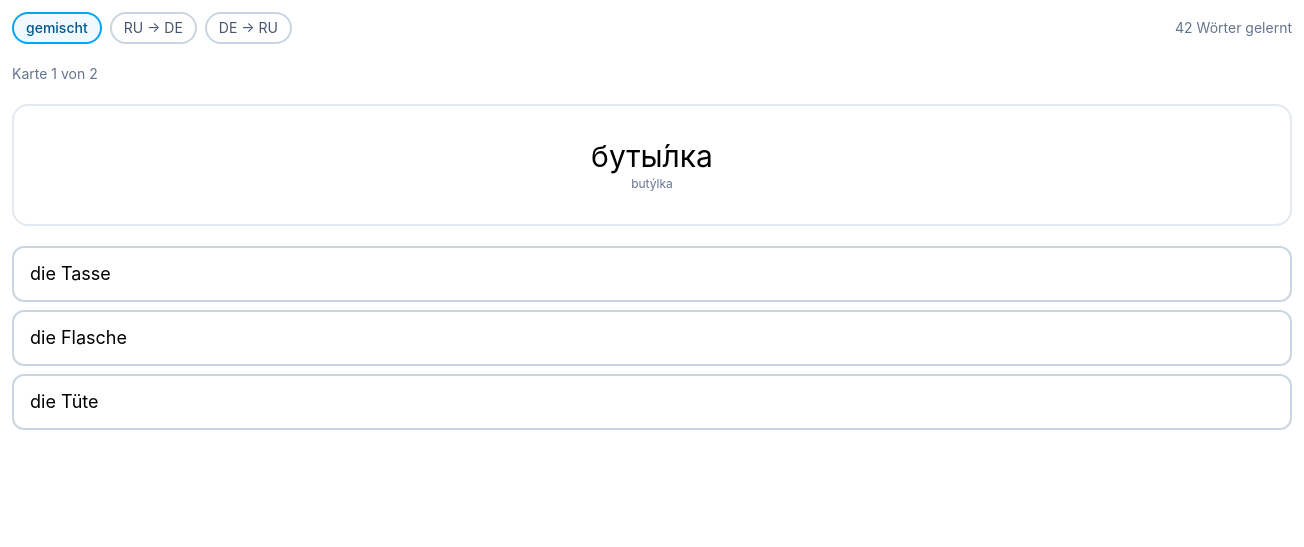
it: FlashcardsView › nennt bei einer falschen Antwort Wort und Bedeutung
Click the button "die Tüte".
click(64, 401)  # box [12,374,1292,430]
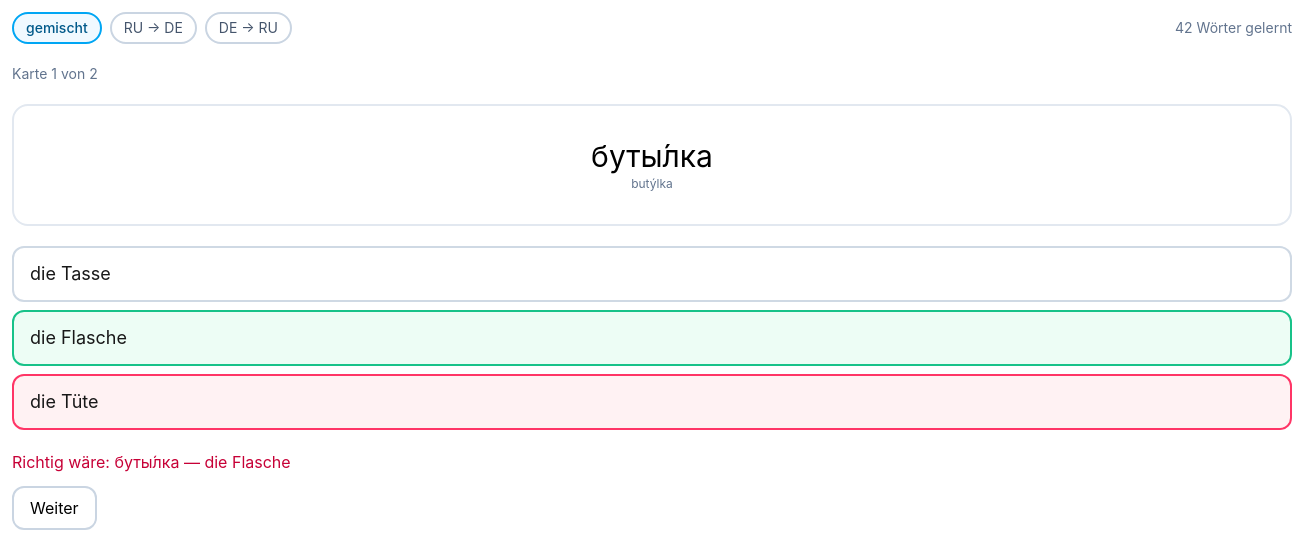
Check: the text "Richtig wäre: буты́лка — die Flasche" is shown, box [12,452,291,472]
